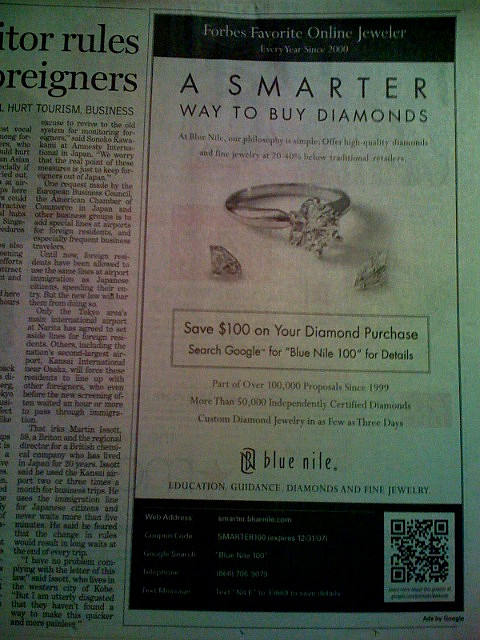QR-CODE: (391, 519, 447, 582)
